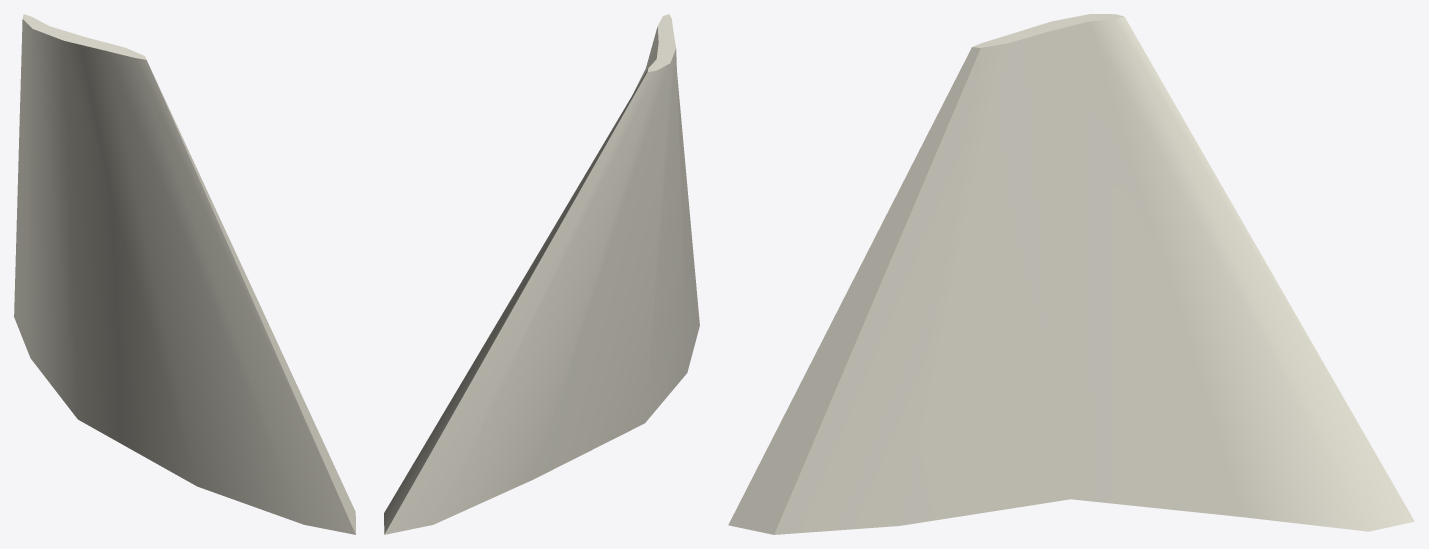
Rendered from resources_plastic.fbx.
3 renders of one model, left to right at view 1: azimuth 30°, elevation 25°; view 2: azimuth 150°, elevation 25°; view 3: azimuth 270°, elevation 25°, orthographic. The views are drawn at different scales.
Visible parts, largest first — view 1: Plastic; view 2: Plastic; view 3: Plastic.
Boxes of the visible parts, x1,y1,x2,y2 form: Plastic: [14, 14, 355, 534]; Plastic: [384, 14, 699, 534]; Plastic: [728, 14, 1414, 534].
Size of the model in its own units: 200 by 140 by 60.44.
